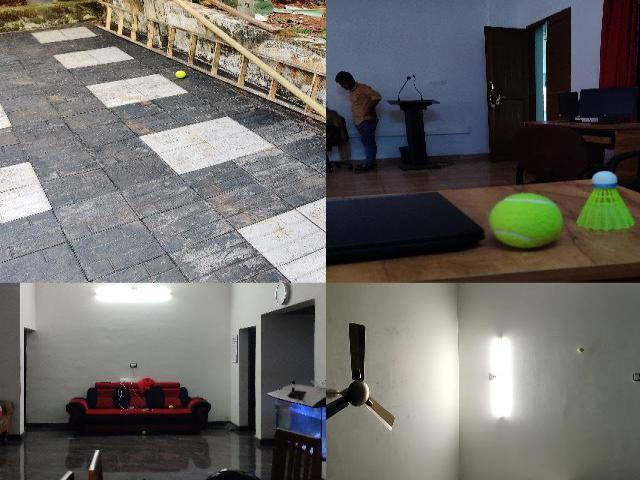tennis-ball: (489, 193, 561, 248), (175, 70, 185, 78), (576, 347, 584, 352), (141, 430, 145, 434), (169, 405, 173, 408)
